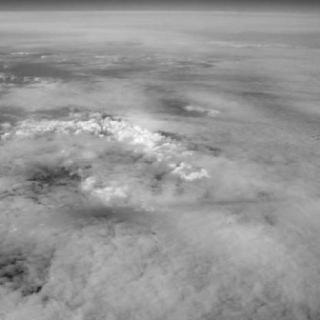Stratus: (0, 10, 320, 320)
